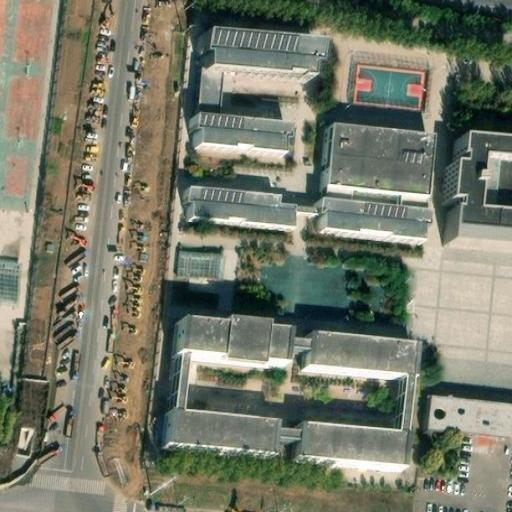building: (172, 311, 420, 461), (328, 122, 435, 192), (448, 135, 512, 246), (210, 26, 330, 73), (322, 195, 432, 235), (190, 187, 295, 224), (197, 112, 295, 150), (429, 395, 512, 436), (478, 160, 512, 212), (174, 247, 224, 281), (0, 256, 20, 302)
